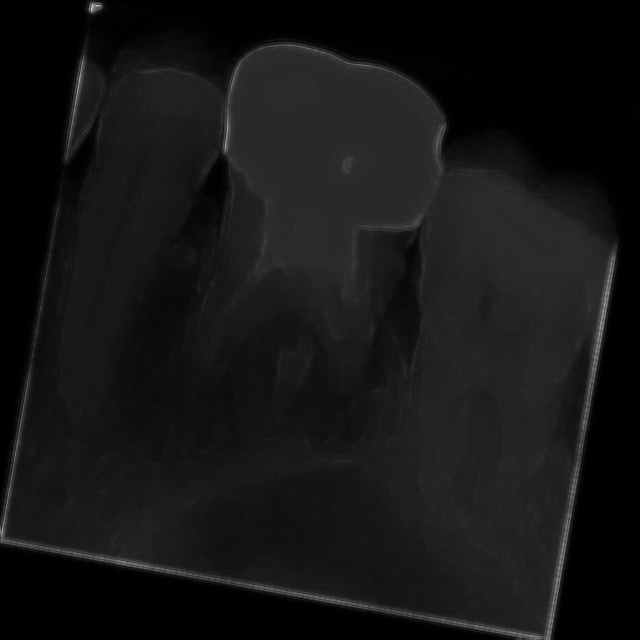Class 1- complete endodontic treatment: (132, 21, 478, 524)
